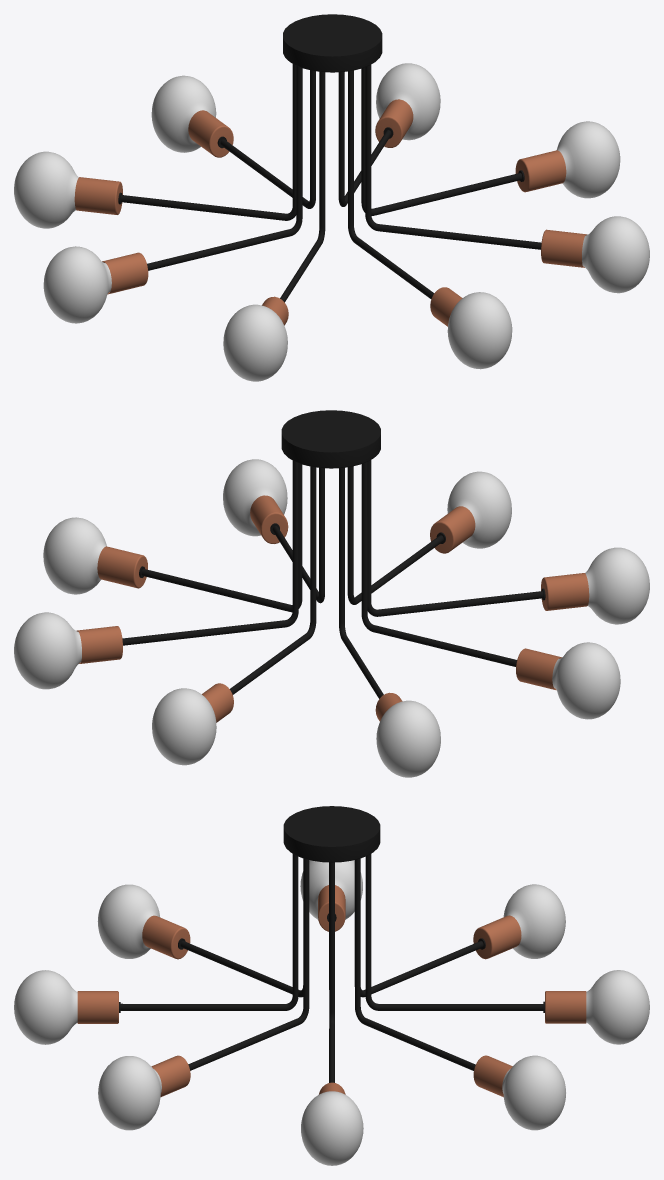
File: lamp_1.glb
3 renders of one model, top to bottom at view 1: azimuth 30°, elevation 25°; view 2: azimuth 150°, elevation 25°; view 3: azimuth 270°, elevation 25°, orthographic. The views are drawn at different scales.
Parts seen in each view (by area): view 1: root; view 2: root; view 3: root.
Boxes of the visible parts, bbox=[...] form: root: bbox=[14, 14, 649, 381]; root: bbox=[14, 410, 649, 777]; root: bbox=[14, 806, 649, 1165].
Size of the model in its own units: 0.8 by 0.3 by 0.8.
